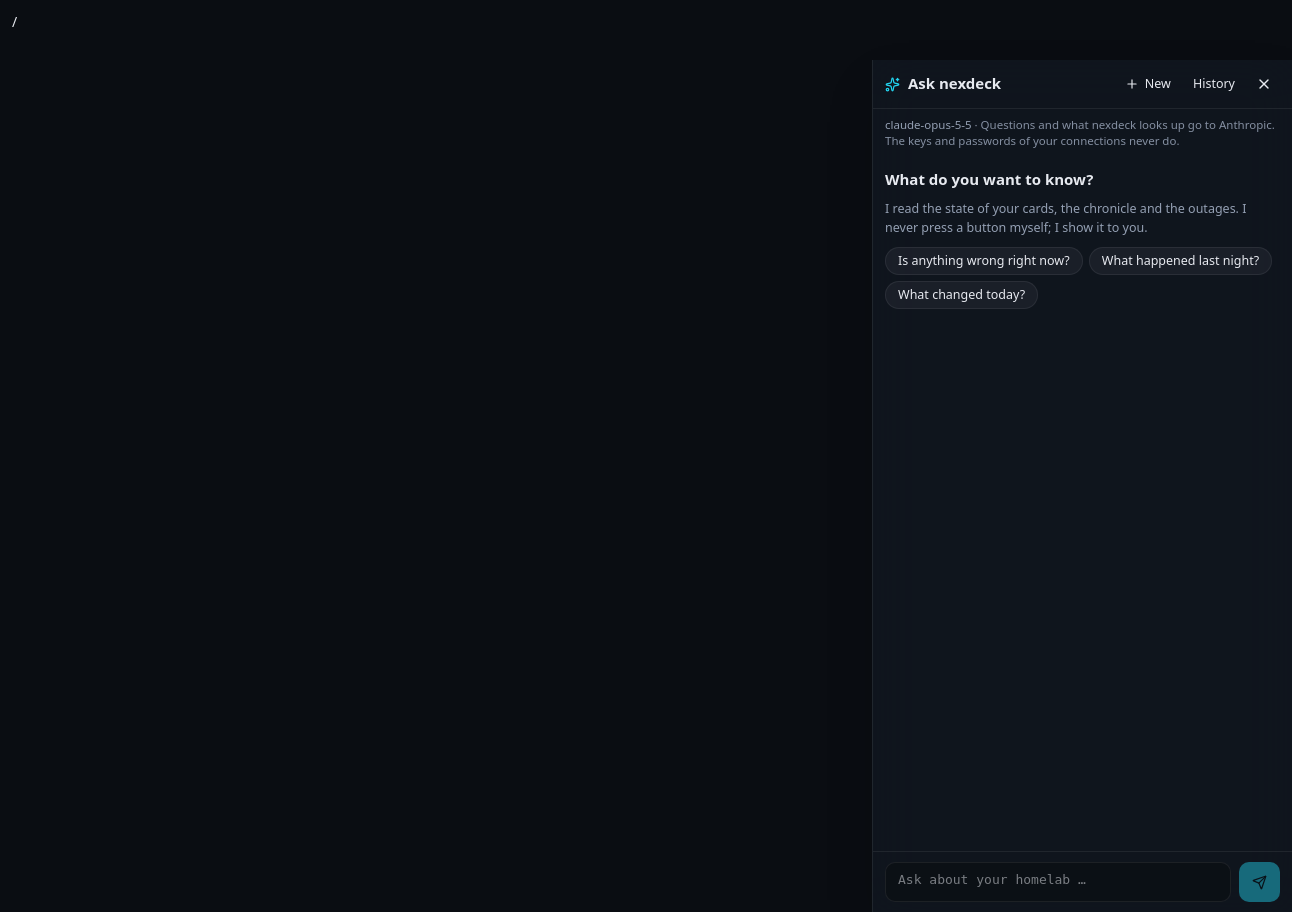
karten18 ac5: the draft in the chat › shows a small preview, what went out and how long the draft stays
The image size is (1292, 912).
Type "Build me a card for my queue" into the text box named "Question" at (1058, 882), box [885,862,1231,902]
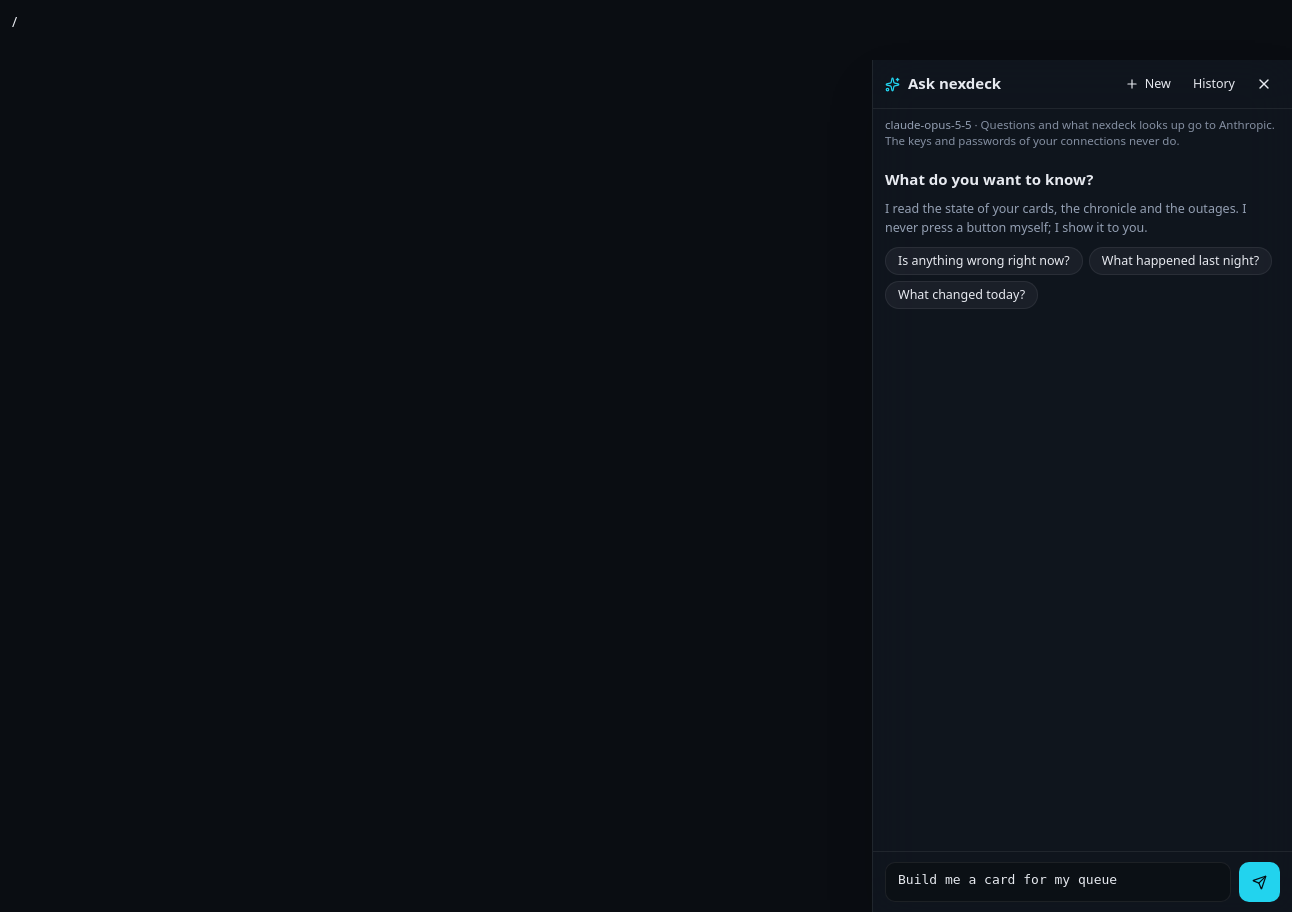
Click the button named "Send" at (1260, 882), box [1239,862,1280,902]
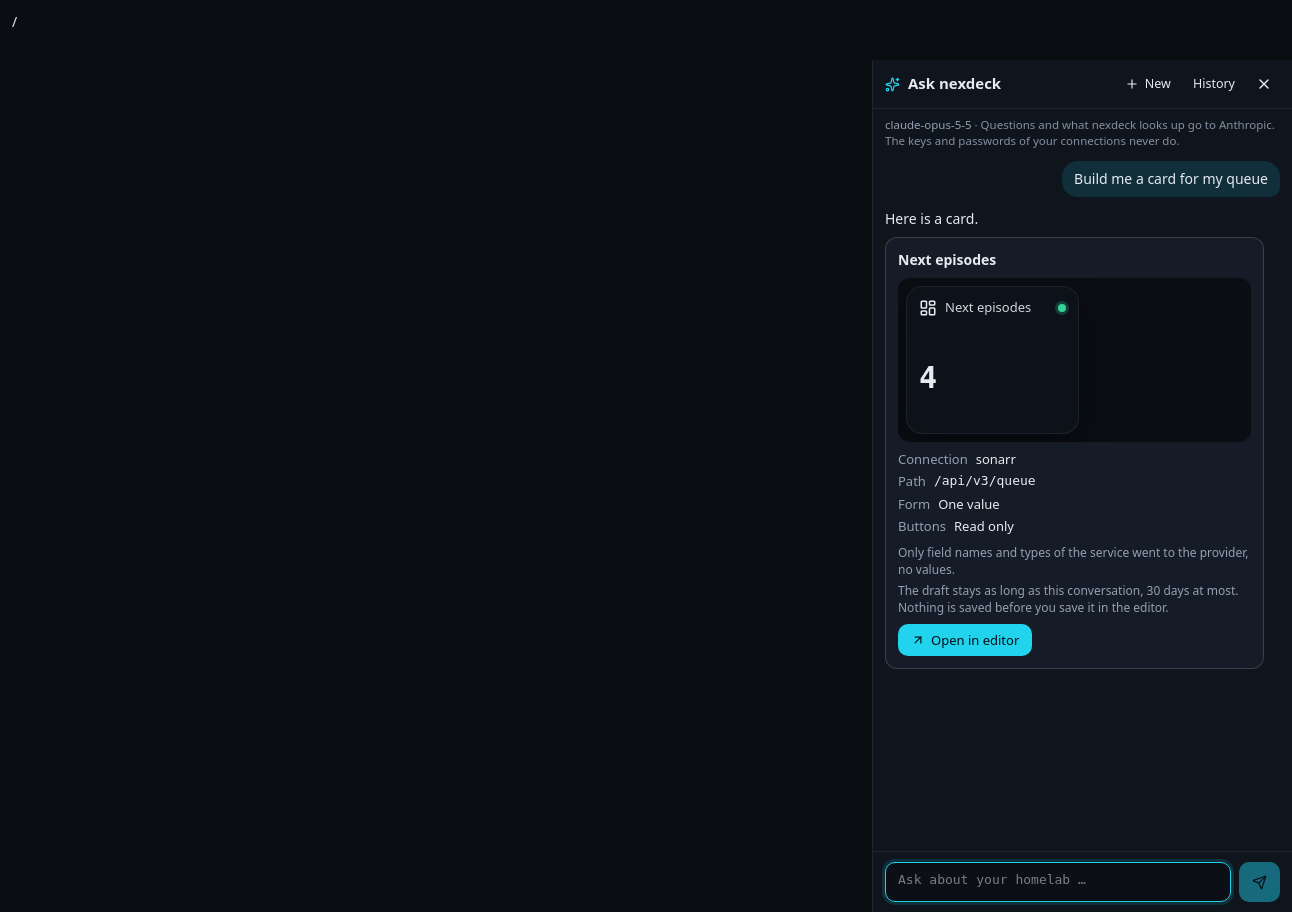
Now the text "Next episodes" is shown, box [898,250,996,269]
Now the element with test id "draft-preview" is shown, box [898,278,1251,442]
Now the element with test id "assistant-draft" shows "Only field names and types of the service went to the provider, no values.", box [898,544,1248,578]
